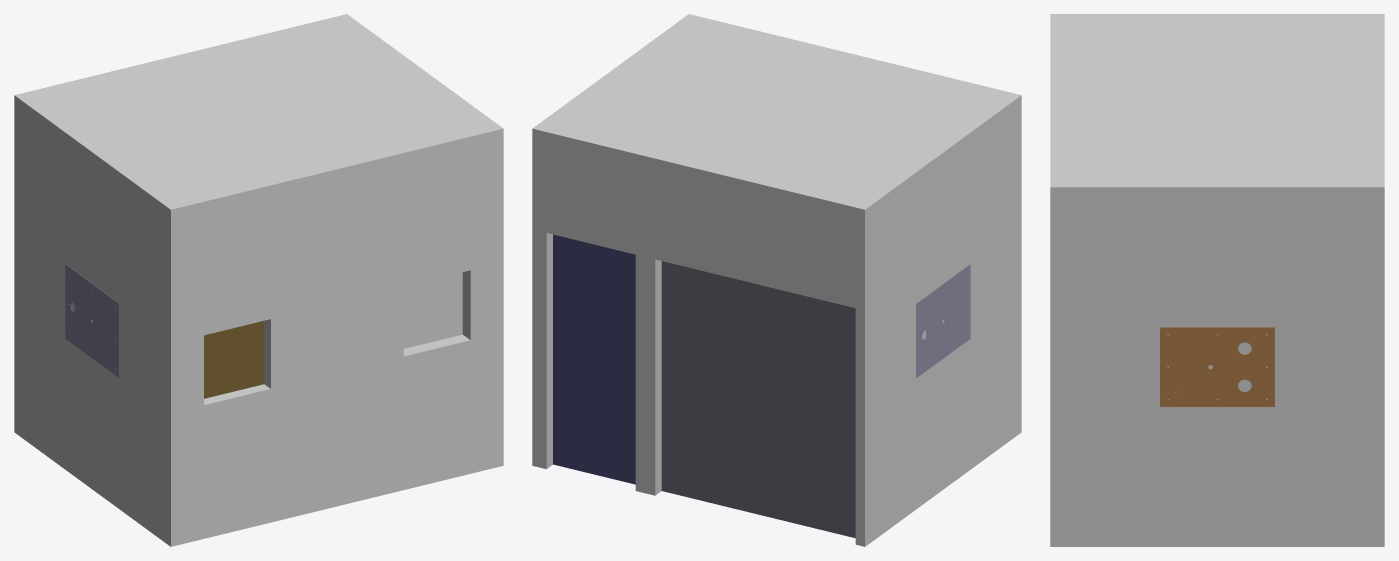
Rendered from assembly.glb.
3 renders of one model, left to right at view 1: azimuth 30°, elevation 25°; view 2: azimuth 150°, elevation 25°; view 3: azimuth 270°, elevation 25°, orthographic. The views are drawn at different scales.
Parts seen in each view (by area): view 1: container_shell, ARC-PLT-CG, GRD-XFM-001; view 2: container_shell, GRD-LVS-001, GRD-SWG-001, ARC-PLT-CG; view 3: container_shell, ARC-PLT-BG-AC.
Boxes of the visible parts, x1,y1,x2,y2 form: container_shell: [14, 14, 503, 546]; ARC-PLT-CG: [65, 264, 119, 377]; GRD-XFM-001: [204, 321, 264, 398]; container_shell: [532, 14, 1021, 546]; GRD-LVS-001: [661, 261, 855, 538]; GRD-SWG-001: [553, 234, 635, 484]; ARC-PLT-CG: [916, 264, 970, 377]; container_shell: [1050, 14, 1384, 546]; ARC-PLT-BG-AC: [1160, 327, 1274, 406].
Size of the model in its own units: 2997 by 2896 by 2438.
